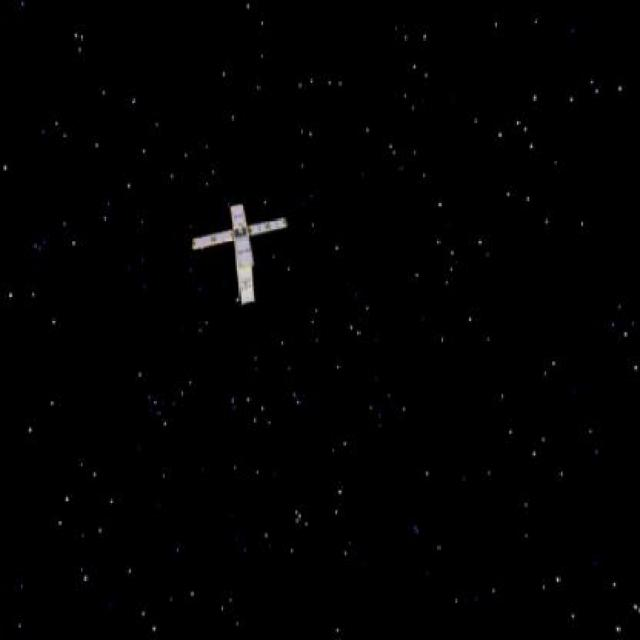medium_debris: (189, 190, 298, 320)
